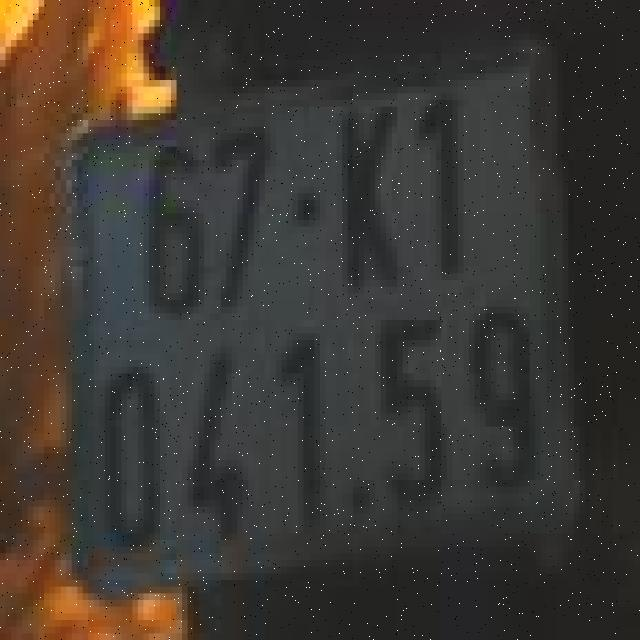0: (97, 356, 168, 556)
1: (276, 327, 347, 533), (414, 97, 485, 283)
4: (180, 350, 256, 550)
5: (375, 303, 458, 517)
6: (136, 147, 212, 320)
7: (210, 134, 276, 314)
9: (466, 307, 549, 500)
K: (334, 100, 411, 300)
